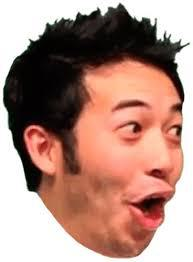poggers: (8, 7, 184, 259)
